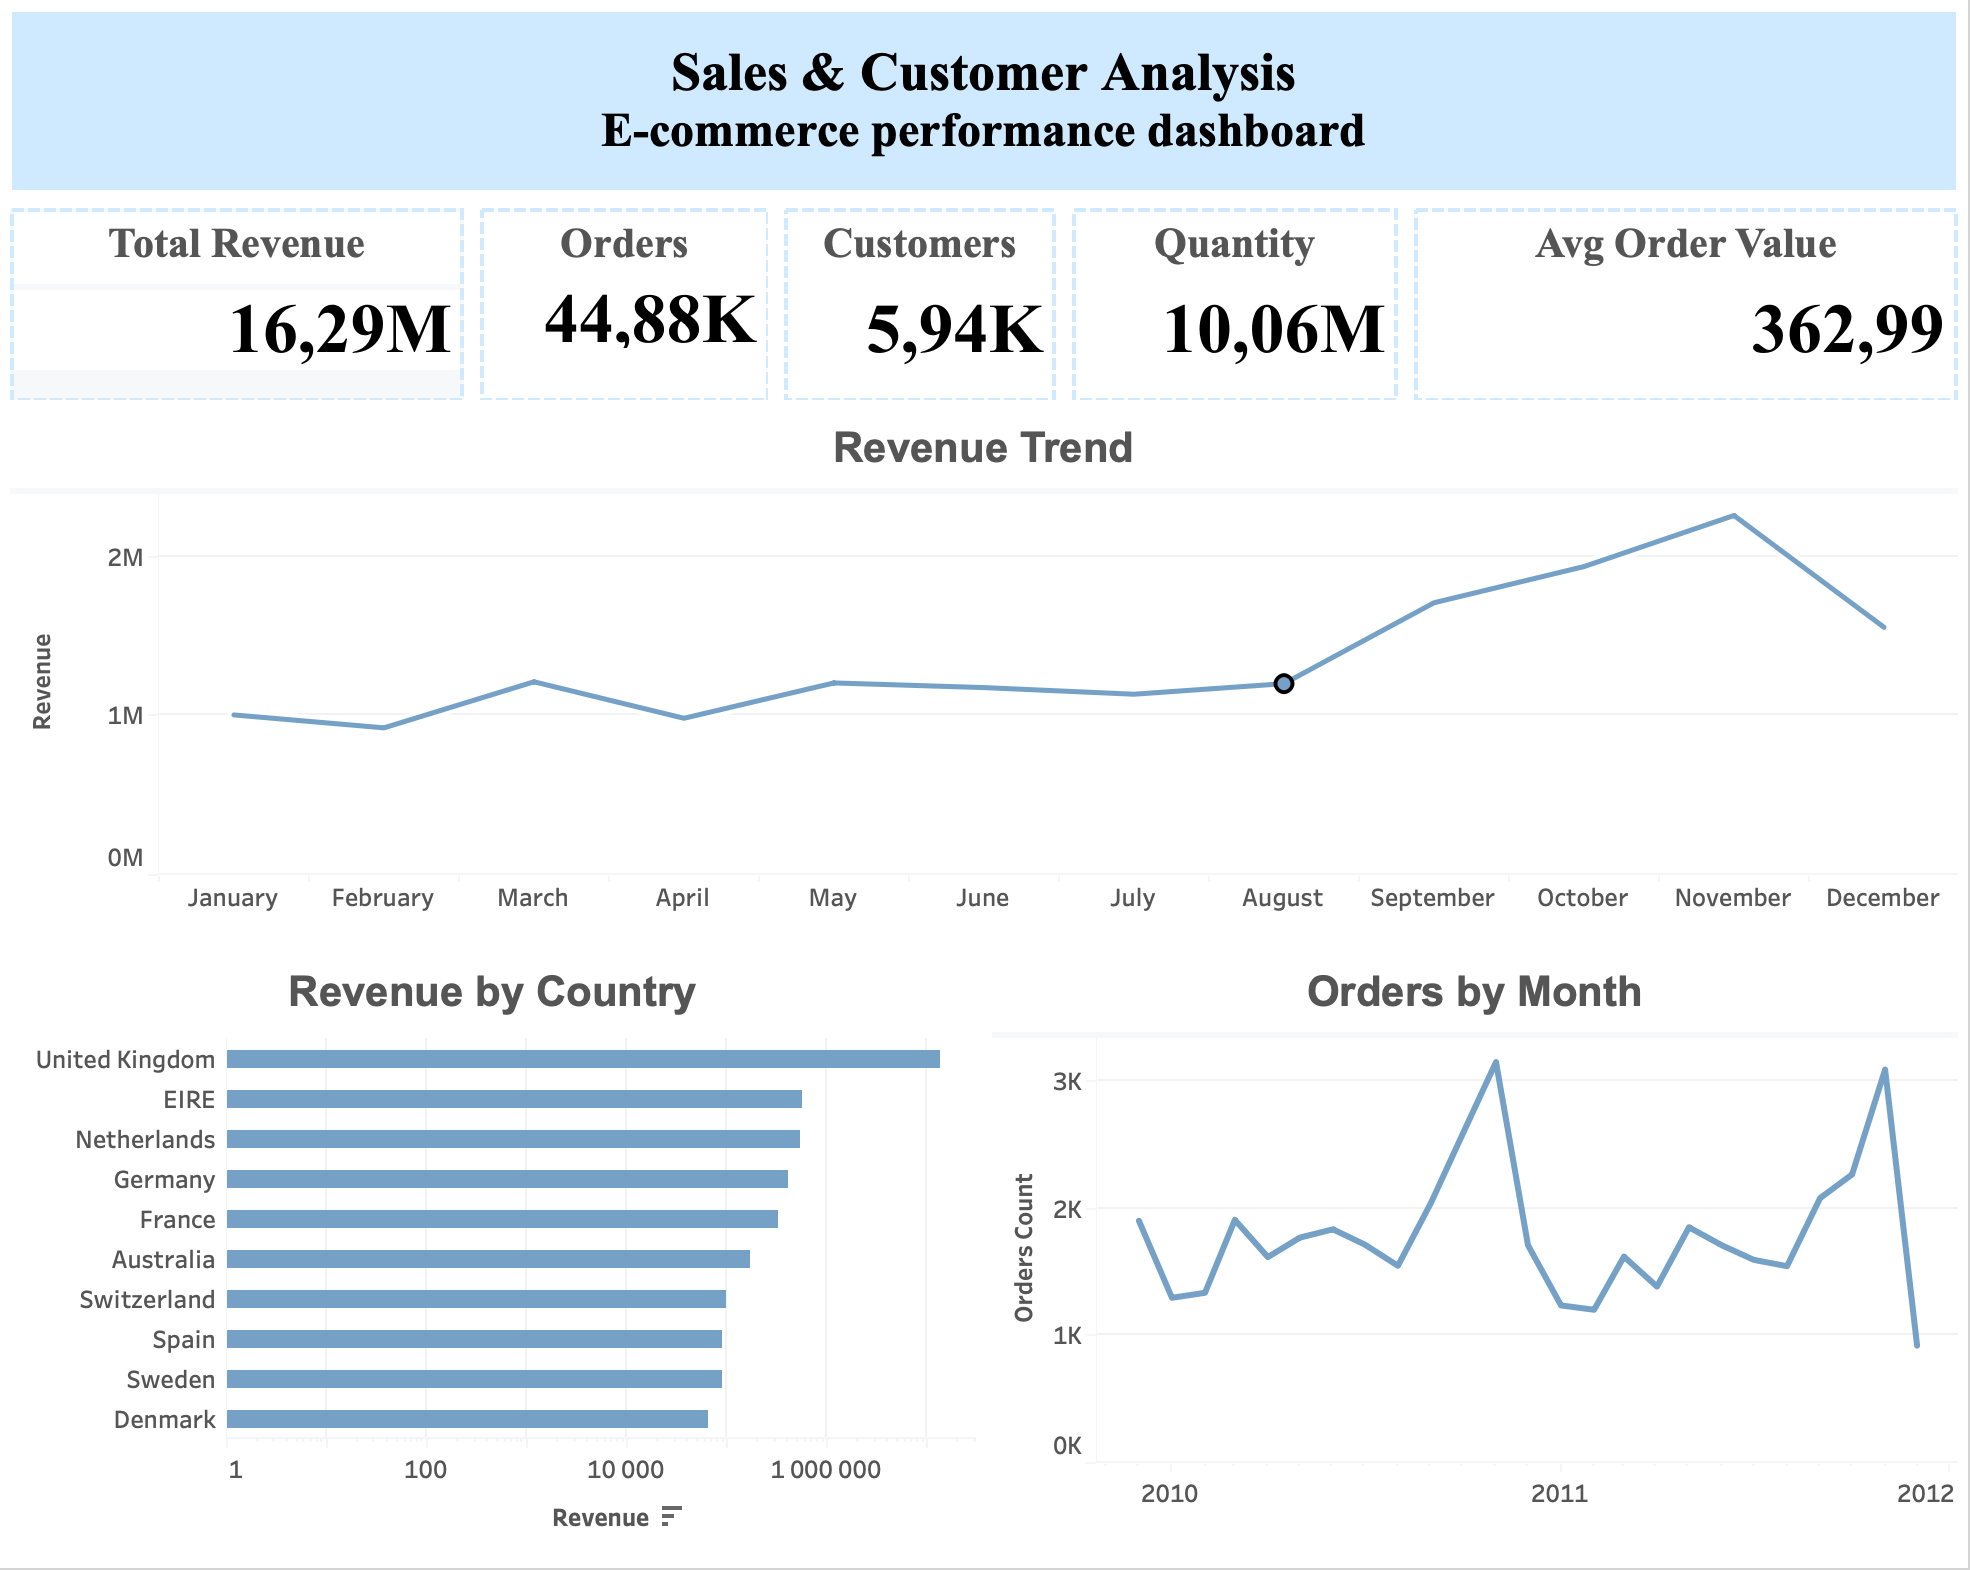

The dashboard page shown, as its layout file describes it:
{"tool":"tableau","page":{"name":"Sales Dashboard","canvas":[1000,800],"ordinal":0},"visuals":[{"type":"text","box":[8,8,984,99]},{"type":"worksheet","title":"KPI - Revenue","mark":"Text","box":[8,107,235.2,148.9]},{"type":"worksheet","title":"KPI - Orders","mark":"Text","box":[243.2,107,152.9,148.9]},{"type":"worksheet","title":"KPI - Customers","mark":"Text","box":[396.1,107,143.9,148.9]},{"type":"worksheet","title":"KPI - Quantity","mark":"Text","box":[540,107,185,148.9]},{"type":"worksheet","title":"KPI - Average_Order_Value","mark":"Text","box":[725,107,267,148.9]},{"type":"worksheet","title":"Sales by Month","mark":"Line","rows":["revenue"],"cols":["date_id"],"box":[8,255.9,984,249.5]},{"type":"worksheet","title":"Sales by Country","mark":"Bar","rows":["country_name"],"cols":["revenue"],"box":[8,505.5,492,286.5]},{"type":"worksheet","title":"Orders by Month","mark":"Line","rows":["orders_count"],"cols":["date_id"],"box":[500,505.5,492,286.5]}]}

Visuals, with their boxes in screenshot pixels (x1, y1, x2, y2), scaled from the page's 1000x800 canvas onto the 1970x1570 screenshot:
text: 16 16 1954 210
"KPI - Revenue" worksheet (Text marks): 16 210 479 502
"KPI - Orders" worksheet (Text marks): 479 210 780 502
"KPI - Customers" worksheet (Text marks): 780 210 1064 502
"KPI - Quantity" worksheet (Text marks): 1064 210 1428 502
"KPI - Average_Order_Value" worksheet (Text marks): 1428 210 1954 502
"Sales by Month" worksheet (Line marks): 16 502 1954 992
"Sales by Country" worksheet (Bar marks): 16 992 985 1554
"Orders by Month" worksheet (Line marks): 985 992 1954 1554
